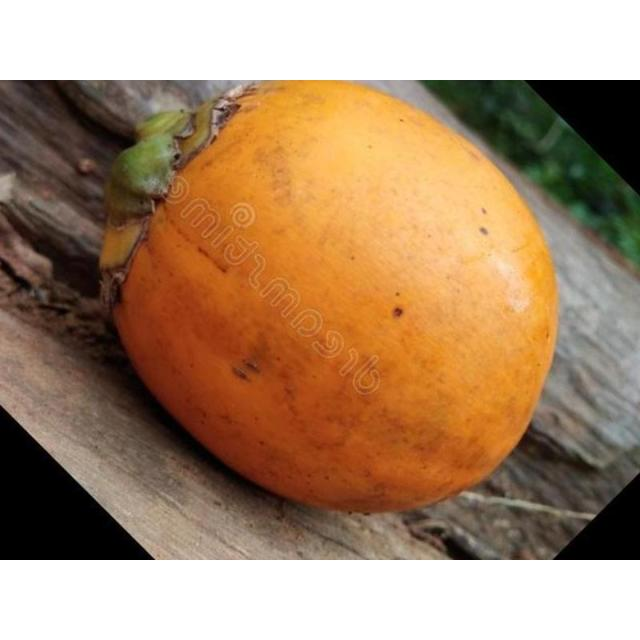good: (101, 80, 560, 516)
